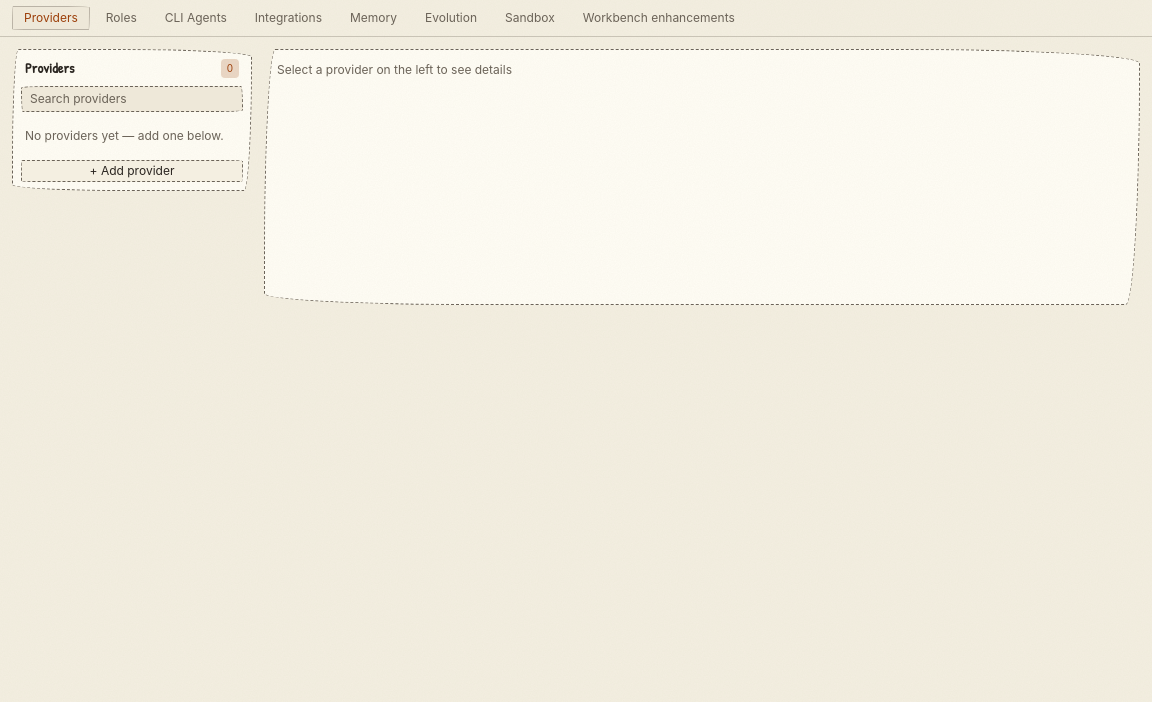
Scenario: SettingsView — top tab navigation › renders the section tabs and mounts only the active panel
Expected: the navigation bar named "settings sections" is shown, [0,0,1151,37]
Expected: the button "+ Add provider" is shown, [21,160,243,182]
# Switch to Roles: the Roles panel replaces the provider list.
Click the tab "Roles" at [121, 18], box [94,6,149,30]
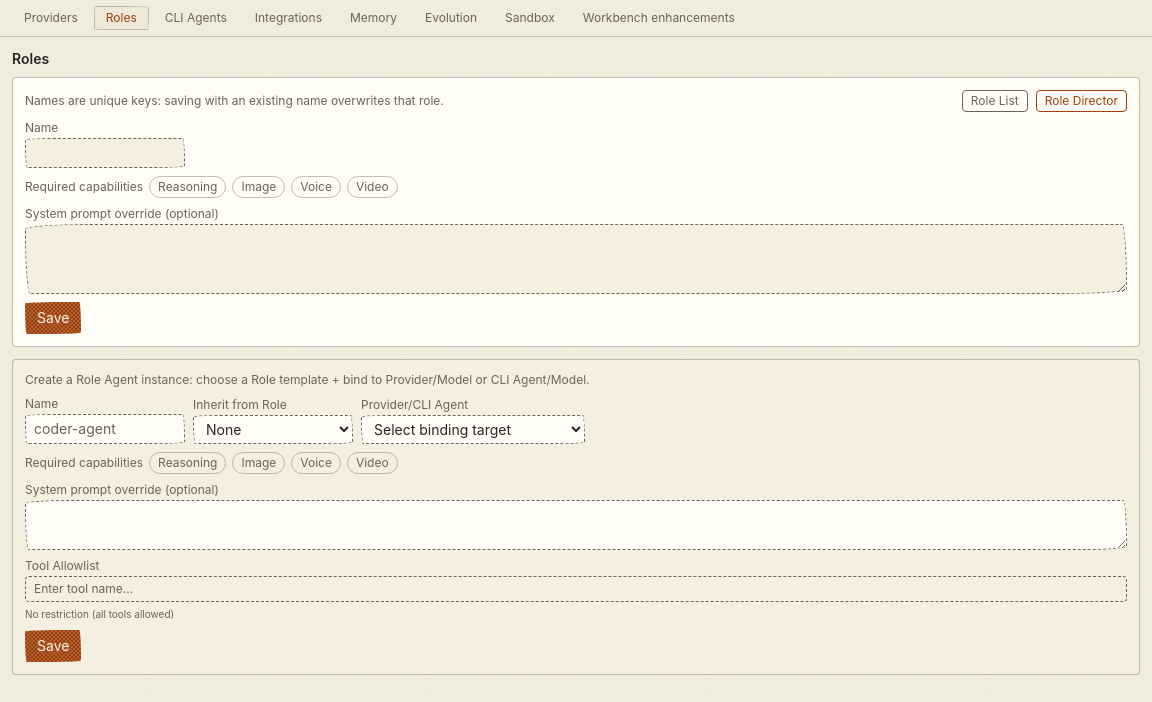
Now the heading "Roles" is shown, box [12,50,49,67]
Now the button "+ Add provider" is gone
# Evolution tab hosts the four-dimension evolution settings panel.
Click the tab "Evolution" at [451, 18], box [413,6,489,30]
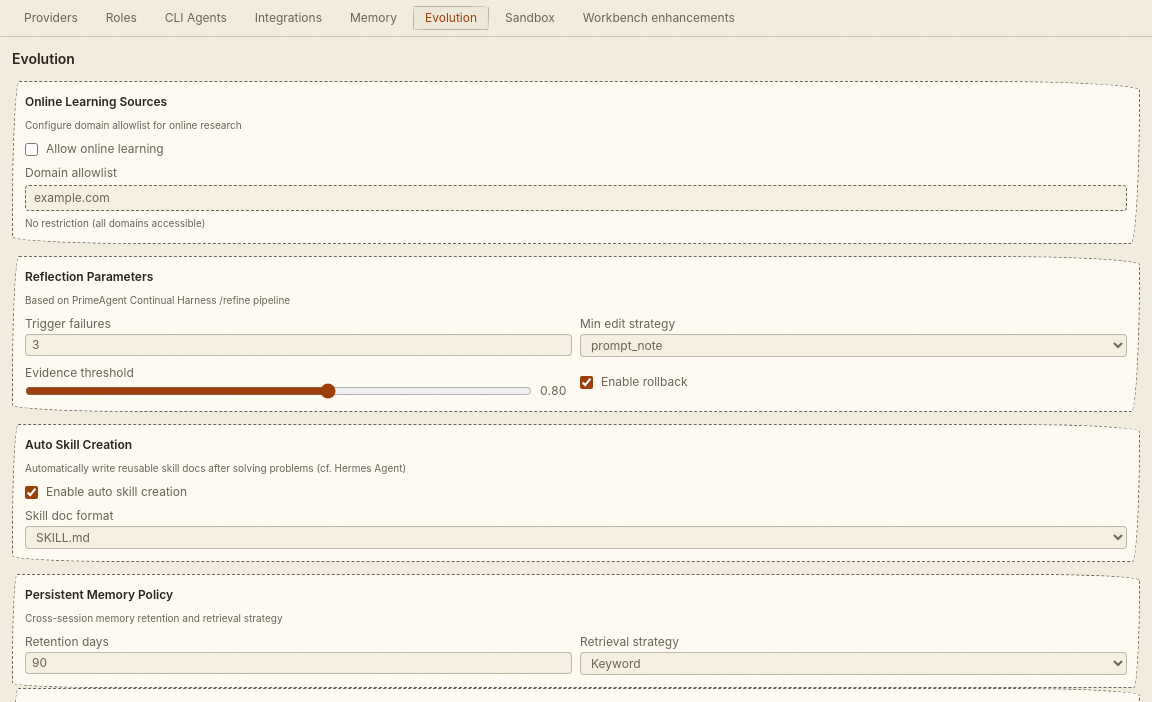
Now the heading "Evolution" is shown, box [12,50,75,67]
